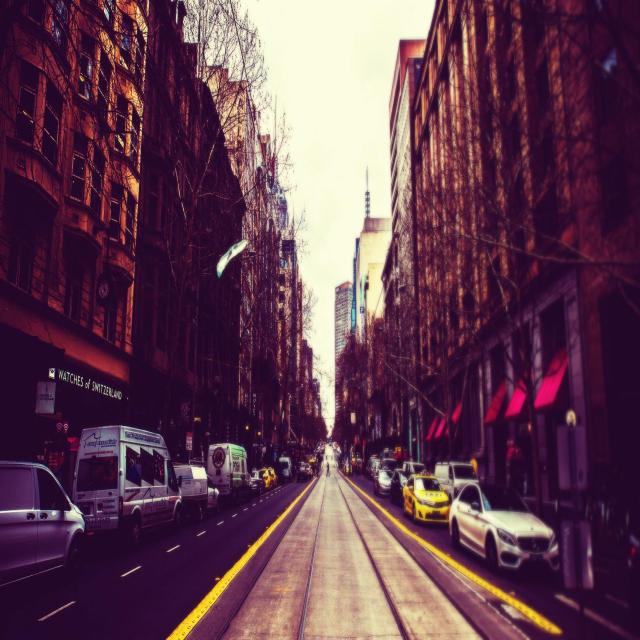airplane: (216, 238, 249, 276)
